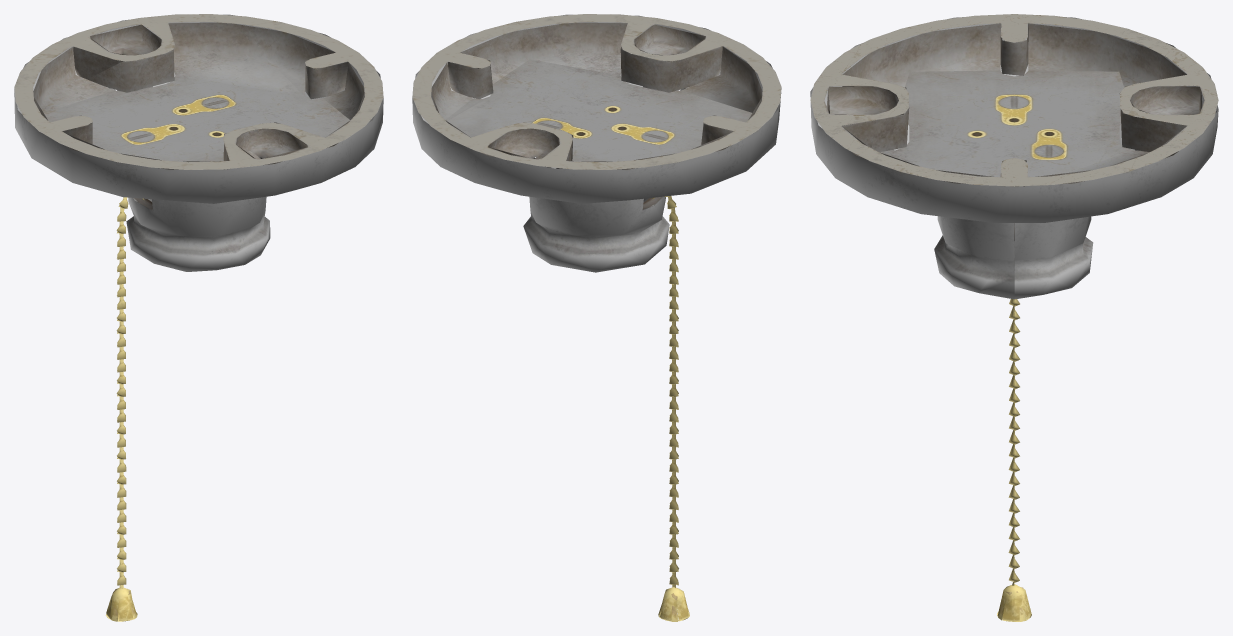
Rendered from pull_chain_light_socket_1k.gltf.
3 renders of one model, left to right at view 1: azimuth 30°, elevation 25°; view 2: azimuth 150°, elevation 25°; view 3: azimuth 270°, elevation 25°, orthographic. The views are drawn at different scales.
Parts seen in each view (by area): view 1: pull_chain_light_socket, pull_chain_light_socket_chain; view 2: pull_chain_light_socket, pull_chain_light_socket_chain; view 3: pull_chain_light_socket, pull_chain_light_socket_chain.
Part boxes in pixels (x1,y1,x2,y2): pull_chain_light_socket: (14,14,383,271); pull_chain_light_socket_chain: (106,197,137,621); pull_chain_light_socket: (412,14,781,272); pull_chain_light_socket_chain: (658,196,689,621); pull_chain_light_socket: (810,14,1218,299); pull_chain_light_socket_chain: (997,299,1031,621).
Size of the model in its own units: 0.1101 by 0.1657 by 0.1101.
Materials: 1 (1 with a texture image).
